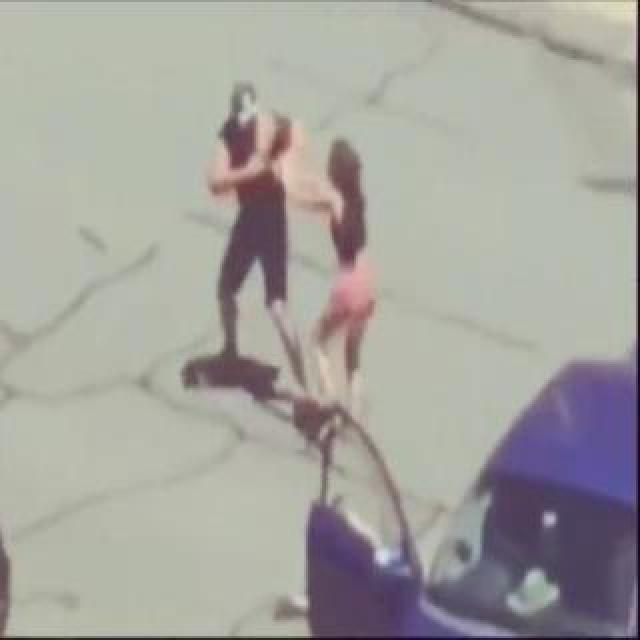fight: (136, 0, 466, 466)
